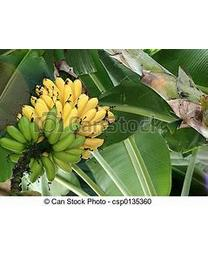banana: (0, 73, 114, 188)
